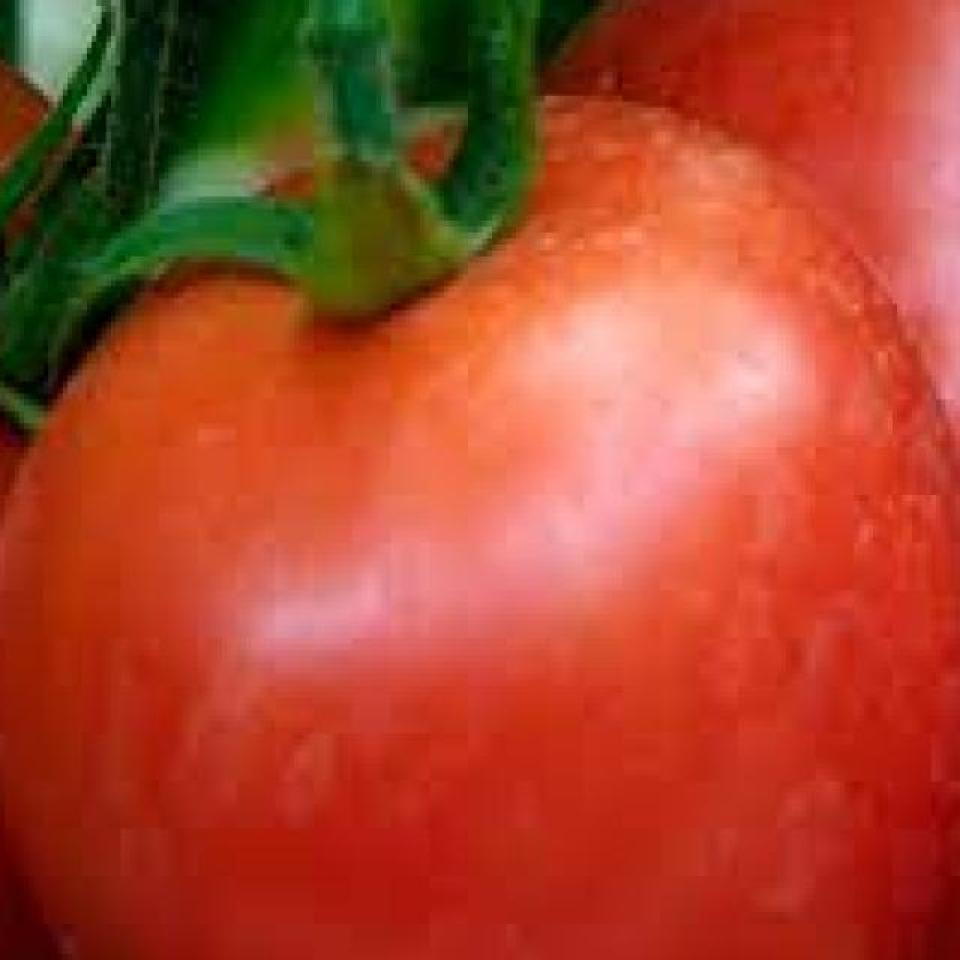Healthy: (6, 92, 960, 956)
